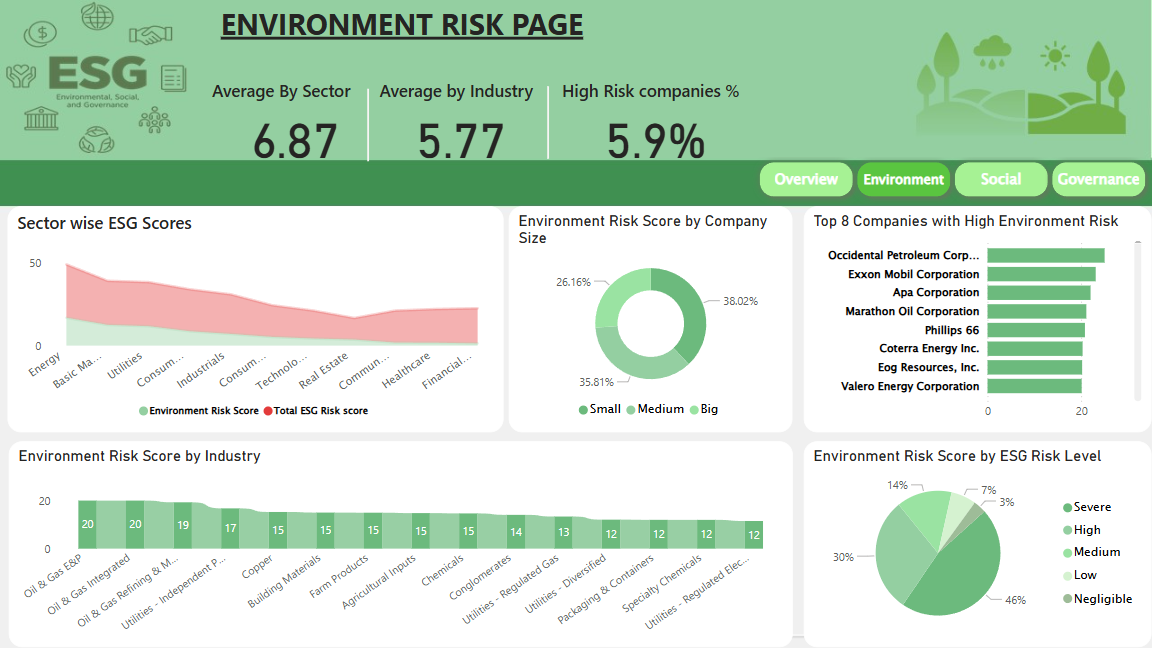

What the dashboard file says about the page in this screenshot:
{"tool":"powerbi","page":{"name":"Environment","canvas":[1280,720],"ordinal":1},"visuals":[{"type":"card","title":"High Risk companies %","fields":{"Values":["SP 500 ESG Risk Ratings.No. of companies(ERS >15)"]},"box":[619.4,87.5,216.7,104.2],"z":0},{"type":"ribbonChart","title":"Environment Risk Score by Industry","fields":{"Category":["SP 500 ESG Risk Ratings.Industry"],"Y":["Avg(SP 500 ESG Risk Ratings.Environment Risk Score)"]},"box":[9.7,490.3,870.8,229.2],"z":1000},{"type":"barChart","title":"Top 8 Companies with High Environment Risk","fields":{"Category":["SP 500 ESG Risk Ratings.Name"],"Y":["Sum(SP 500 ESG Risk Ratings.Environment Risk Score)"]},"box":[893.1,229.2,386.1,251.4],"z":2000},{"type":"stackedAreaChart","title":"Sector wise ESG Scores","fields":{"Category":["SP 500 ESG Risk Ratings.Sector"],"Y":["Avg(SP 500 ESG Risk Ratings.Environment Risk Score)","Avg(SP 500 ESG Risk Ratings.Total ESG Risk score)"]},"box":[8.3,229.2,551.4,251.4],"z":3000},{"type":"donutChart","title":"Environment Risk Score by Company Size","fields":{"Category":["SP 500 ESG Risk Ratings.Company Size"],"Y":["Avg(SP 500 ESG Risk Ratings.Environment Risk Score)"]},"box":[565.3,229.2,315.3,251.4],"z":4000},{"type":"pieChart","title":"Environment Risk Score by ESG Risk Level","fields":{"Category":["SP 500 ESG Risk Ratings.ESG Risk Level"],"Y":["Avg(SP 500 ESG Risk Ratings.Environment Risk Score)"]},"box":[893.1,490.3,386.1,229.2],"z":5000},{"type":"shape","box":[836.1,172.2,119.4,54.2],"z":7000},{"type":"shape","box":[944.4,172.2,119.4,54.2],"z":8000},{"type":"shape","box":[1052.8,172.2,119.4,54.2],"z":9000},{"type":"shape","box":[1160.6,172.2,119.4,54.2],"z":10000},{"type":"textbox","box":[240.3,0,413.9,62.5],"z":10001},{"type":"card","title":"Average By Sector","fields":{"Values":["Table.Sector(AES)"]},"box":[230.6,87.5,194.4,104.2],"z":10002},{"type":"card","title":"Average by Industry","fields":{"Values":["Table.AES(Industry)"]},"box":[416.7,87.5,188.9,104.2],"z":10003},{"type":"shape","box":[387.5,98.6,43.1,80.6],"z":10004},{"type":"shape","box":[590.3,95.8,37.5,80.6],"z":10005}]}

Visuals, with their boxes in screenshot pixels (x1, y1, x2, y2), scaled from the page's 1280x720 canvas onto the 1152x648 screenshot:
"High Risk companies %" card: box=[557, 79, 752, 173]
"Environment Risk Score by Industry" ribbonChart: box=[9, 441, 792, 647]
"Top 8 Companies with High Environment Risk" barChart: box=[804, 206, 1151, 433]
"Sector wise ESG Scores" stackedAreaChart: box=[7, 206, 504, 433]
"Environment Risk Score by Company Size" donutChart: box=[509, 206, 793, 433]
"Environment Risk Score by ESG Risk Level" pieChart: box=[804, 441, 1151, 647]
shape: box=[752, 155, 860, 204]
shape: box=[850, 155, 957, 204]
shape: box=[948, 155, 1055, 204]
shape: box=[1045, 155, 1151, 204]
textbox: box=[216, 0, 589, 56]
"Average By Sector" card: box=[208, 79, 382, 173]
"Average by Industry" card: box=[375, 79, 545, 173]
shape: box=[349, 89, 388, 161]
shape: box=[531, 86, 565, 159]
